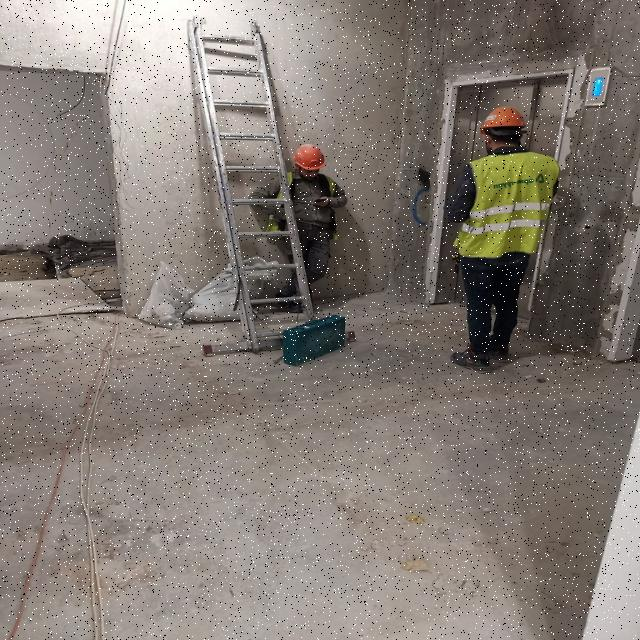Helmet: (479, 110, 534, 136), (290, 145, 328, 176)
